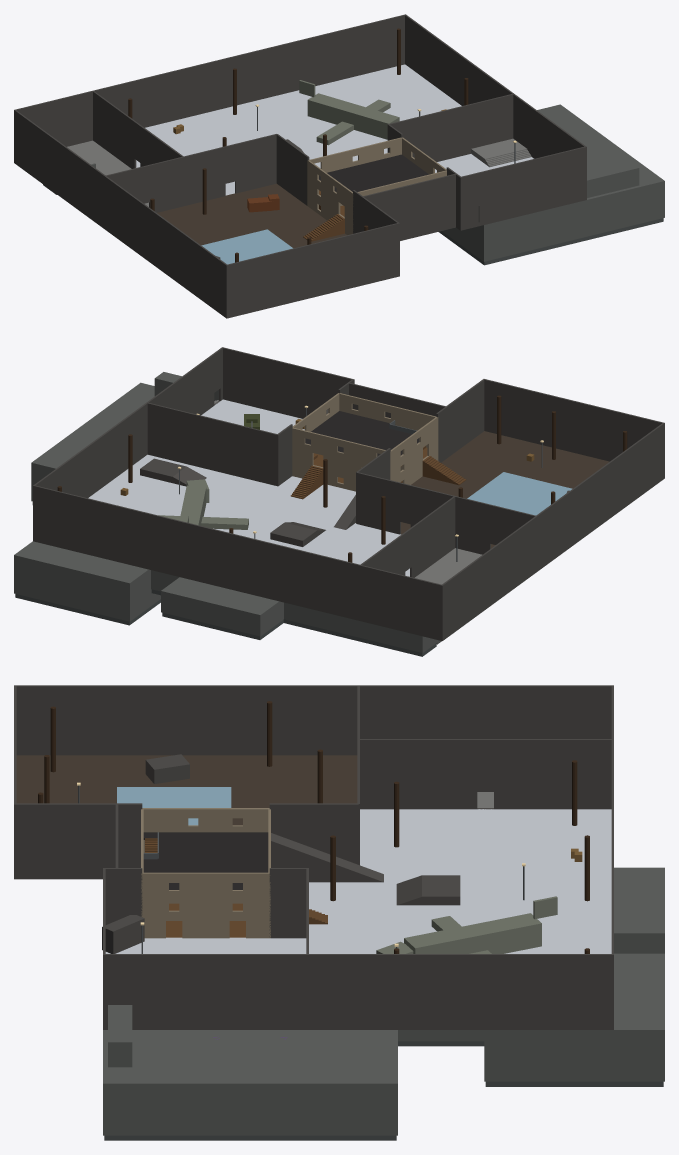
The model's file is die_maschine_map.glb.
3 views of the same model, one above another, from view 1: azimuth 30°, elevation 25°; view 2: azimuth 150°, elevation 25°; view 3: azimuth 270°, elevation 25° (orthographic). The views are drawn at different scales.
Visible parts, largest first — view 1: Pond_rock, Crash_rock, Yard_rock, Crash_snow, Accelerator_bunker, Pond_mud, Nacht_plaster, Nacht_rock, Crash_plane, Nacht_roof, Pond_ice, Yard_concrete (+6 smaller); view 2: Crash_rock, Pond_rock, Yard_rock, Crash_snow, Weapons_bunker, Nacht_plaster, Pond_mud, Control_bunker, Accelerator_bunker, Tunnel_bunker, Pond_ice, Nacht_roof (+10 smaller); view 3: Pond_rock, Crash_rock, Crash_snow, Accelerator_bunker, Yard_rock, Pond_mud, Weapons_bunker, Nacht_plaster, Nacht_roof, Crash_plane, Control_bunker, Nacht_rock (+8 smaller).
Boxes of the visible parts, box(x1,y1,x2,y2) form: Pond_rock: box(15, 110, 399, 318); Crash_rock: box(14, 14, 513, 205); Yard_rock: box(387, 93, 586, 230); Crash_snow: box(136, 64, 461, 195); Accelerator_bunker: box(442, 104, 664, 261); Pond_mud: box(157, 183, 346, 248); Nacht_plaster: box(307, 137, 446, 235); Nacht_rock: box(361, 173, 456, 240); Crash_plane: box(299, 80, 399, 145); Nacht_roof: box(319, 154, 428, 191); Pond_ice: box(201, 229, 292, 264); Yard_concrete: box(471, 138, 531, 167); Crash_rock: box(33, 402, 455, 640); Pond_rock: box(356, 379, 664, 639); Yard_rock: box(147, 347, 354, 486); Crash_snow: box(88, 454, 409, 576); Weapons_bunker: box(14, 541, 160, 621); Nacht_plaster: box(292, 393, 438, 491); Pond_mud: box(401, 431, 609, 548); Control_bunker: box(161, 577, 283, 636); Accelerator_bunker: box(31, 372, 218, 501); Tunnel_bunker: box(284, 602, 437, 652); Pond_ice: box(467, 472, 572, 515); Nacht_roof: box(305, 411, 419, 456); Pond_rock: box(14, 685, 611, 879); Crash_rock: box(269, 685, 613, 1029); Crash_snow: box(309, 809, 611, 953); Accelerator_bunker: box(103, 1005, 397, 1135); Yard_rock: box(102, 868, 308, 1029); Pond_mud: box(16, 755, 357, 825); Weapons_bunker: box(484, 953, 664, 1081); Nacht_plaster: box(141, 808, 270, 938); Nacht_roof: box(143, 832, 268, 889); Crash_plane: box(376, 896, 557, 953); Control_bunker: box(614, 867, 664, 953); Nacht_rock: box(115, 803, 383, 920).
Bounding box in the file's own units: 120 × 23 × 102.
